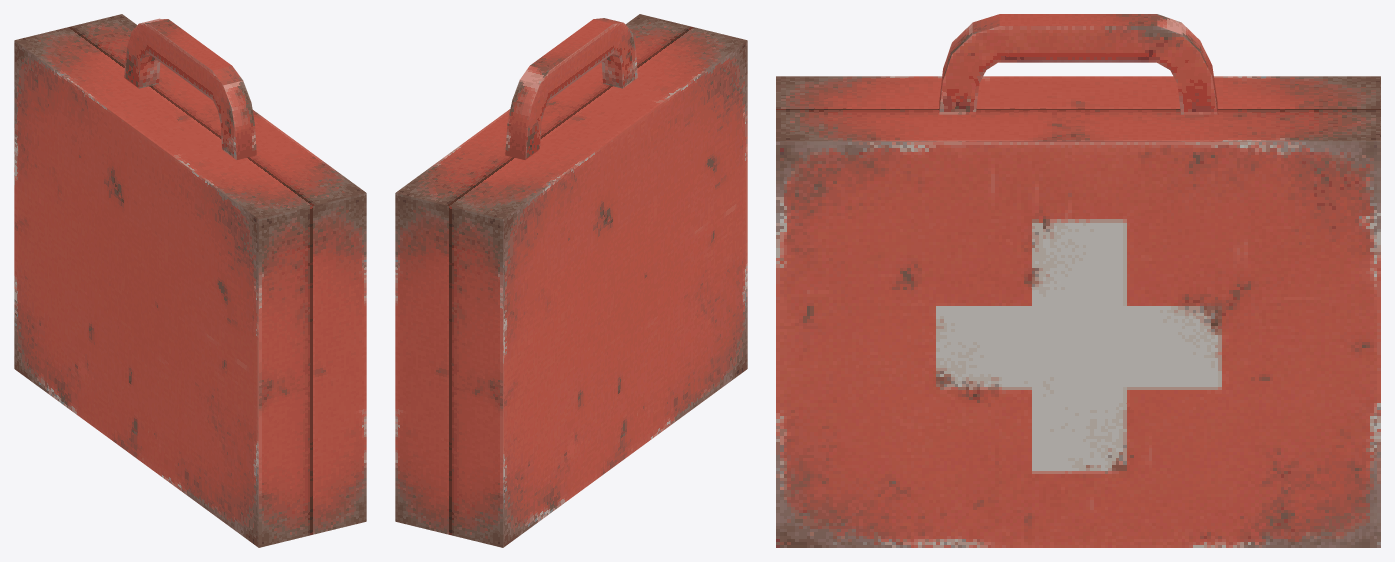
Rendered from gum.glb.
The picture shows the model from 3 angles, left to right: view 1: azimuth 30°, elevation 25°; view 2: azimuth 150°, elevation 25°; view 3: azimuth 270°, elevation 25°; orthographic projection. The views are drawn at different scales.
Parts seen in each view (by area): view 1: Cube; view 2: Cube; view 3: Cube.
Boxes of the visible parts, x1,y1,x2,y2 form: Cube: [14, 14, 366, 547]; Cube: [395, 14, 747, 547]; Cube: [776, 14, 1380, 547].
Size of the model in its own units: 0.9014 by 3.25 by 3.54.
Materials: 1 (1 with a texture image).
